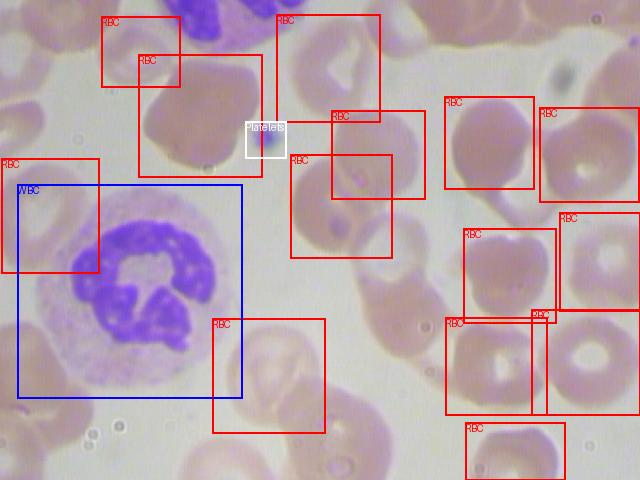Platelets: (245, 121, 286, 158)
RBC: (138, 54, 262, 177), (212, 318, 325, 433), (531, 309, 640, 415), (1, 158, 99, 273), (276, 14, 380, 122), (290, 154, 392, 258), (445, 317, 547, 415), (539, 107, 639, 202), (463, 228, 556, 323), (444, 96, 534, 189), (331, 110, 425, 199), (559, 212, 640, 311), (465, 422, 565, 480), (101, 16, 180, 87)
WBC: (17, 184, 242, 398)
